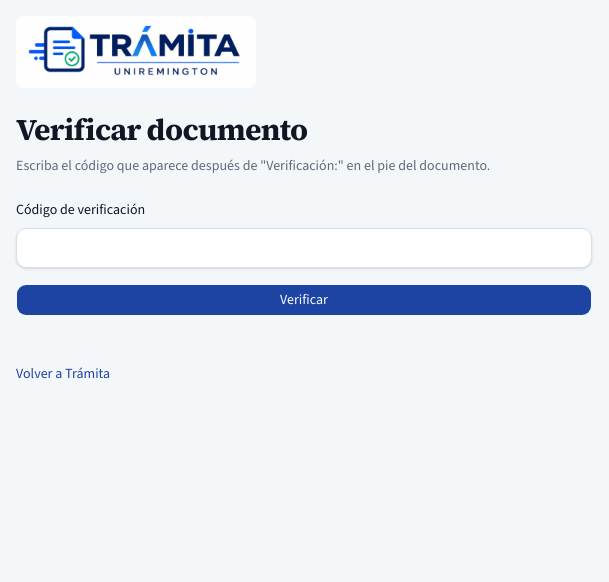
Test case: VerifySealPage › con 200 muestra fecha (en la zona de la sede aun corriendo en UTC), estado, revisión y la limitación declarada, sin palabras de integridad
In the field labelled "Código de verificación": (304,248) [16, 228, 592, 268], type "ABC123"
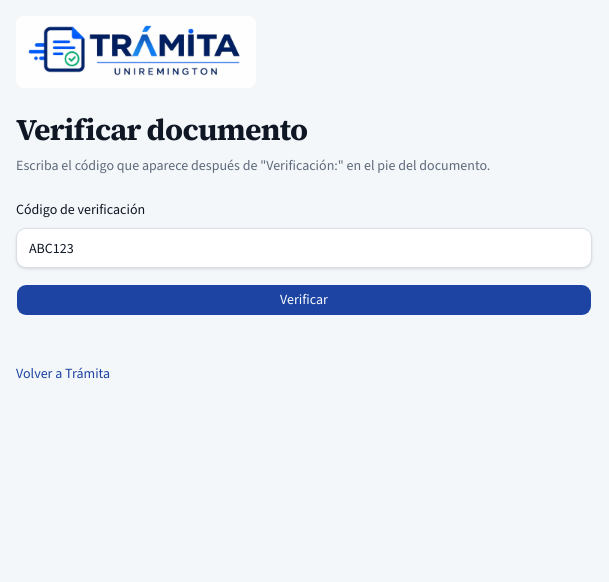
Click the button "Verificar": (304,300) [16, 284, 592, 316]
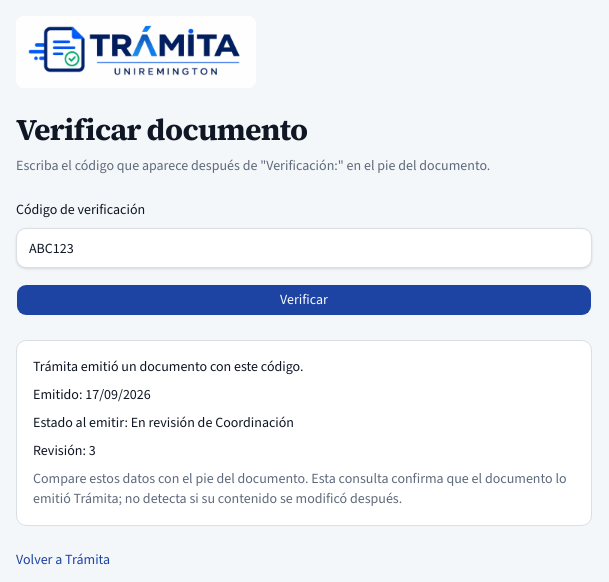
expect the text "Emitido: 17/09/2026" is shown: met, box [33, 385, 151, 404]
expect the text "Trámita emitió un documento con este código." is shown: met, box [33, 357, 304, 376]
expect the text "Estado al emitir: En revisión de Coordinación" is shown: met, box [33, 413, 294, 432]
